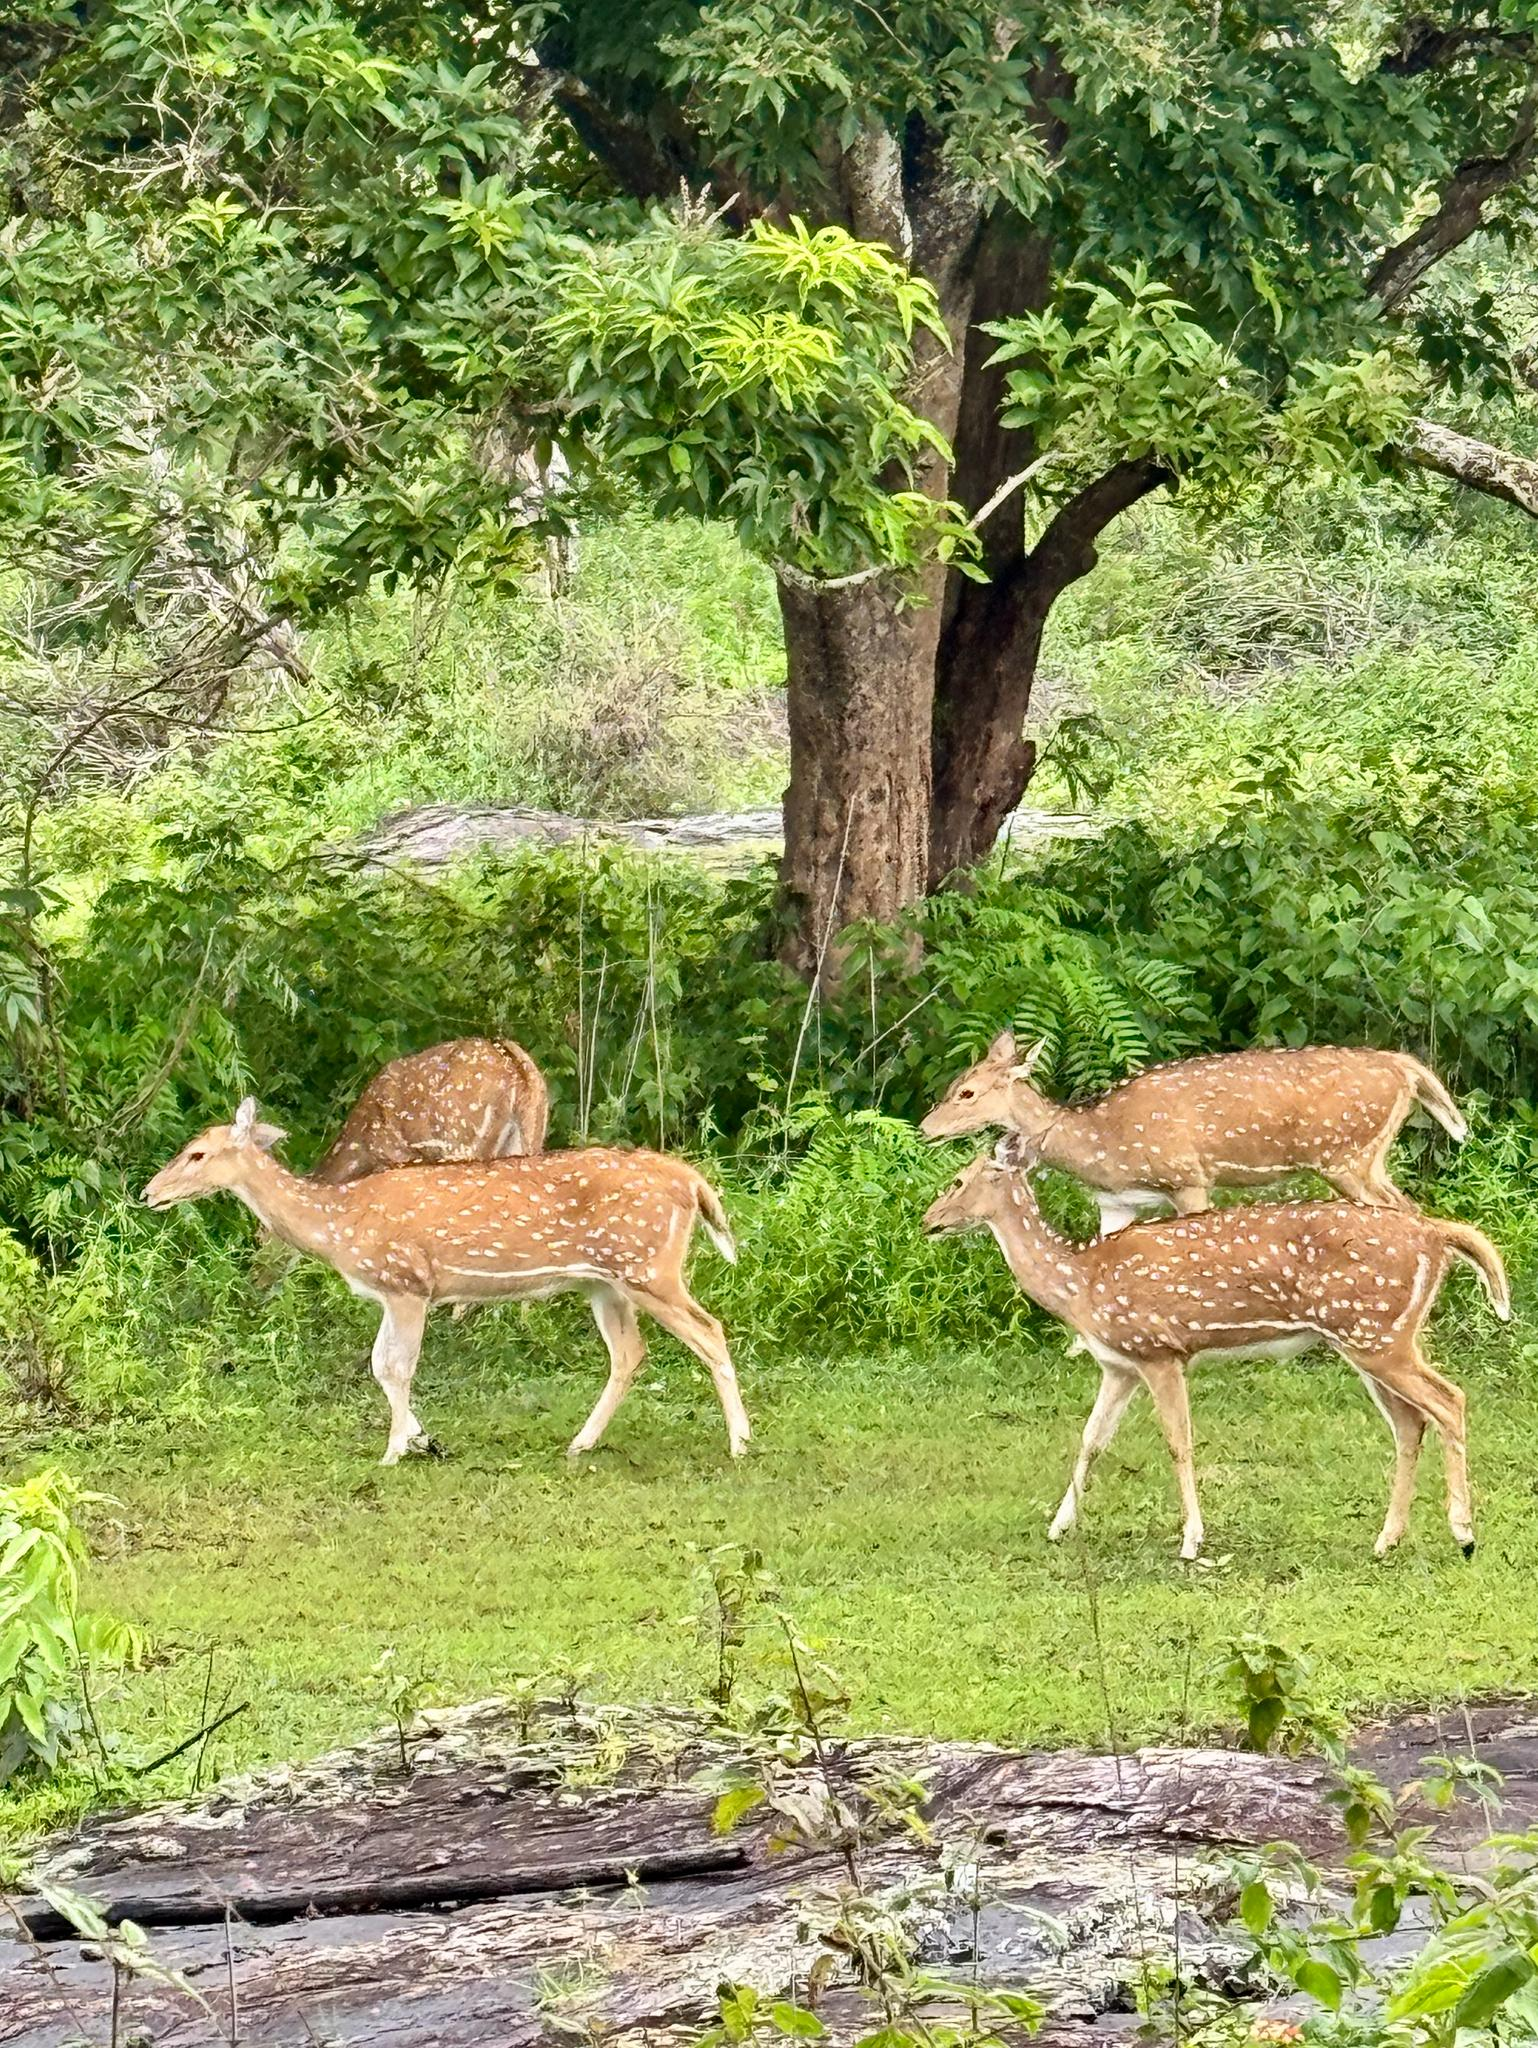Deer: (926, 1160, 1511, 1559), (145, 1097, 750, 1465), (922, 1032, 1467, 1232), (312, 1039, 548, 1182)
